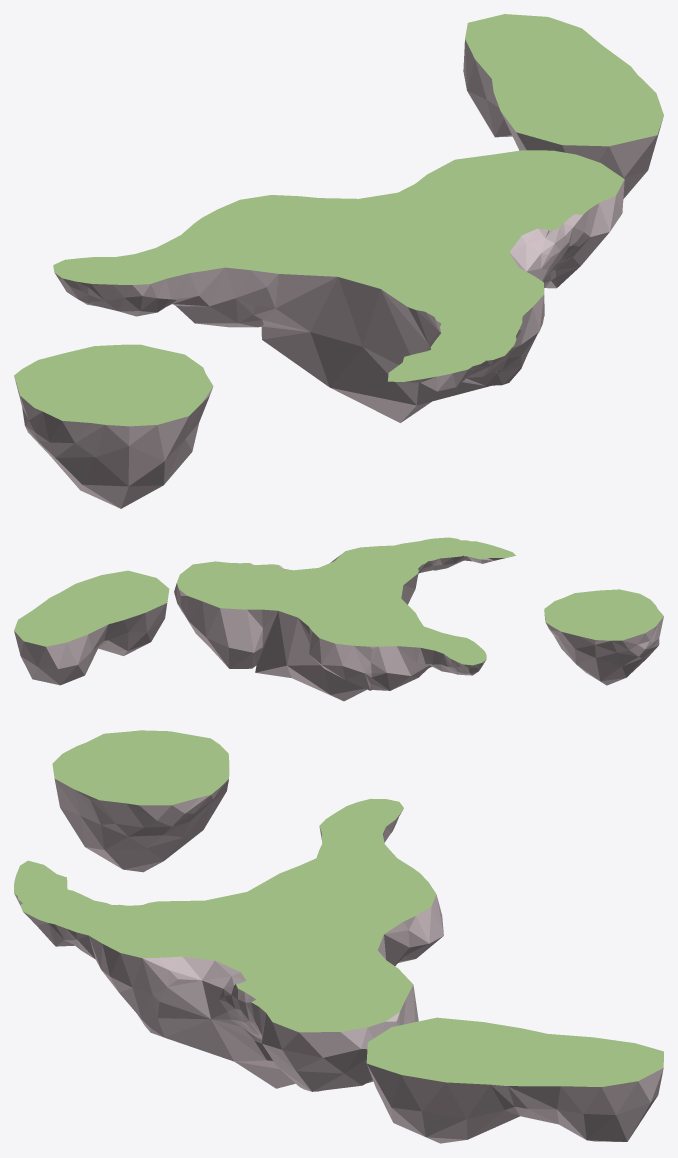
Rendered from Islands_with_UV.fbx.
3 renders of one model, top to bottom at view 1: azimuth 30°, elevation 25°; view 2: azimuth 150°, elevation 25°; view 3: azimuth 270°, elevation 25°, orthographic. The views are drawn at different scales.
Parts seen in each view (by area): view 1: Principale, Hermite, Spawn; view 2: Principale, Spawn, Hermite; view 3: Principale, Spawn, Hermite.
Boxes of the visible parts, bbox=[...] form: Principale: bbox=[53, 150, 624, 422]; Hermite: bbox=[14, 344, 213, 508]; Spawn: bbox=[463, 14, 663, 198]; Principale: bbox=[174, 537, 515, 701]; Spawn: bbox=[14, 570, 169, 685]; Hermite: bbox=[544, 589, 663, 685]; Principale: bbox=[14, 798, 443, 1091]; Spawn: bbox=[366, 1017, 663, 1143]; Hermite: bbox=[52, 730, 229, 872].
Size of the model in its own units: 86254 by 18262 by 66393.
